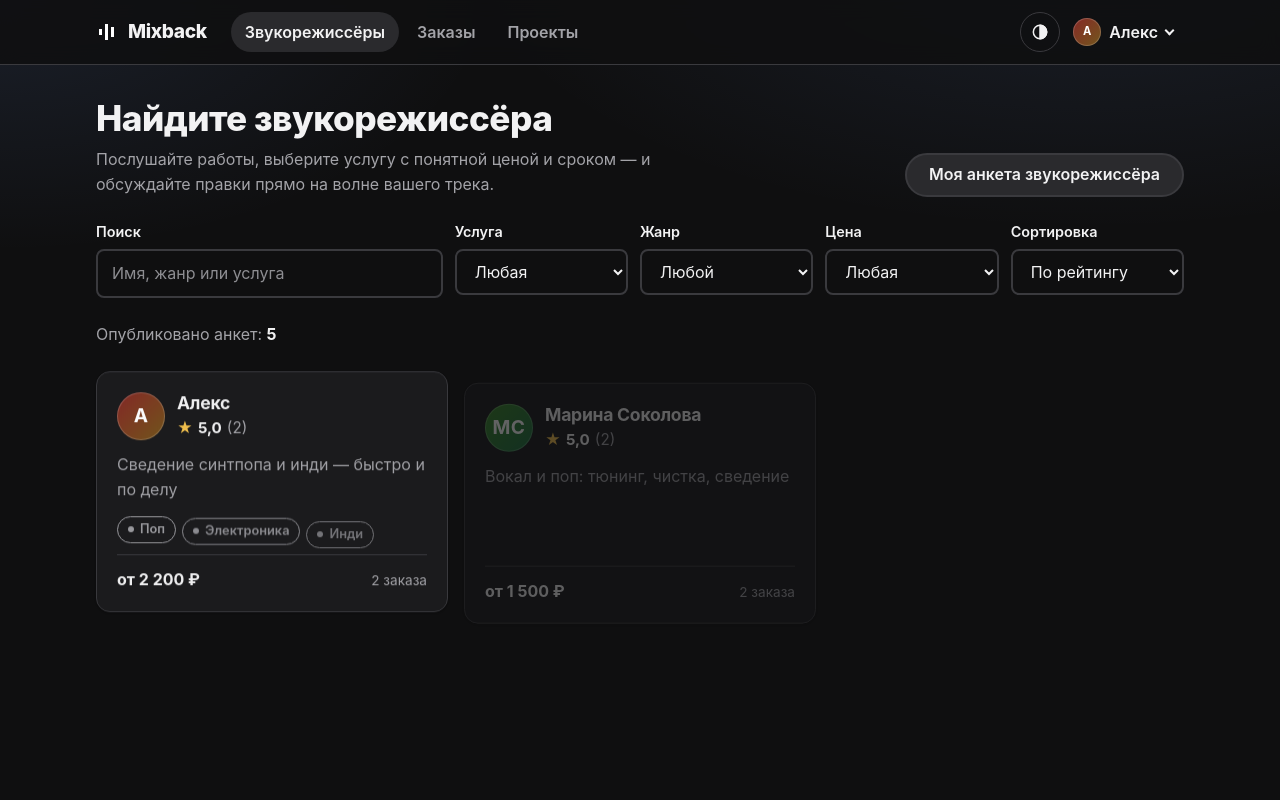
Scenario: меню аккаунта › закрыто по умолчанию, раскрывается и показывает имя, e-mail и пункты
The width and height of the screenshot is (1280, 800).
Check: the link "Настройки" is not shown
Click the button "А Алекс".
click(1126, 32)  # box 1068,13 -> 1184,51
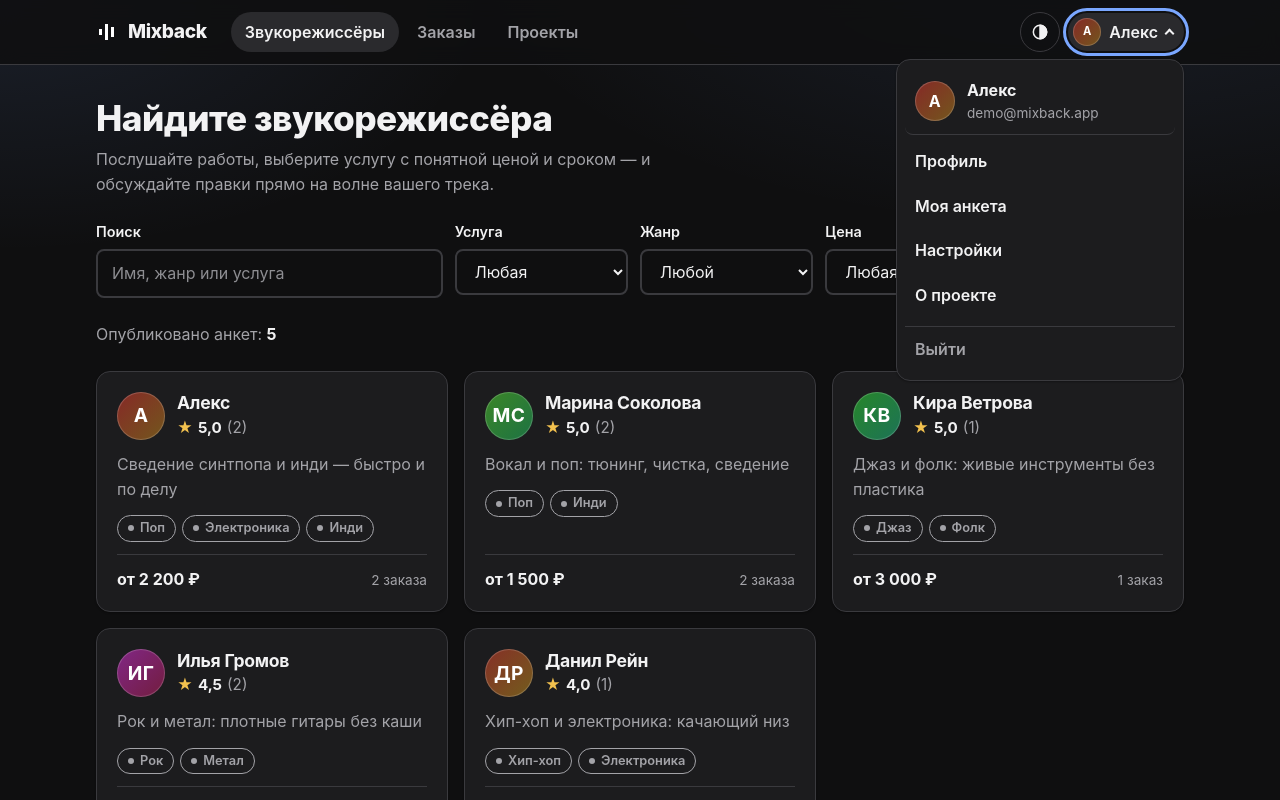
Check: the button "А Алекс" is expanded, box 1068,13 -> 1184,51
Check: the text "demo@mixback.app" is shown, box 967,103 -> 1099,124
Check: the link "Профиль" is shown, box 915,151 -> 987,171
